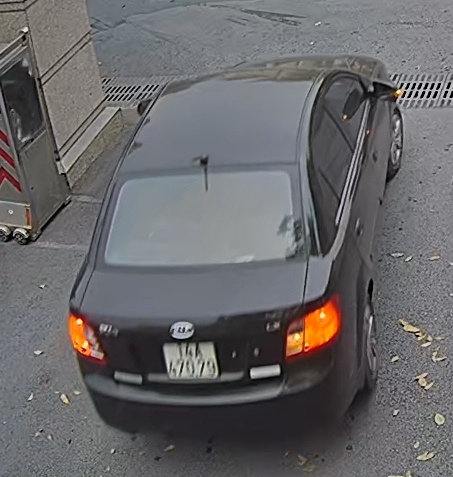vehicle plate: (159, 336, 220, 382)
